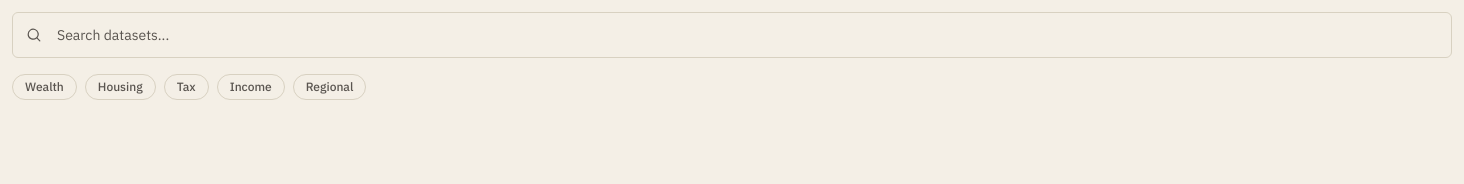
Scenario: DatasetSearch › shows empty state when no datasets match
This screenshot has width=1464, height=184.
Type "xyznonexistent" into the dropdown with placeholder "Search datasets...".
click(732, 35); type("xyznonexistent")  # box [12,12,1452,58]
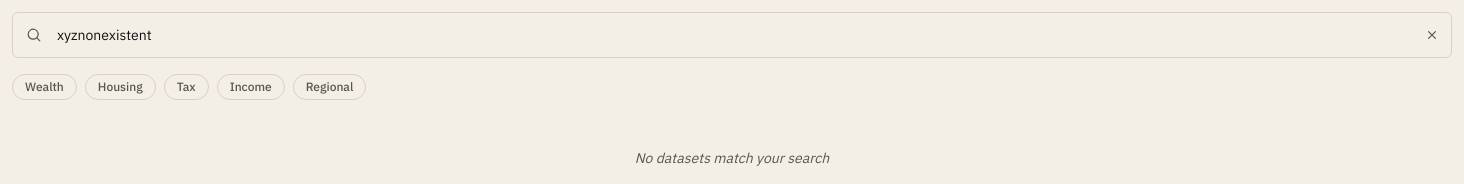
expect the text "No datasets match your search" is shown: met, box [635,149,829,167]
